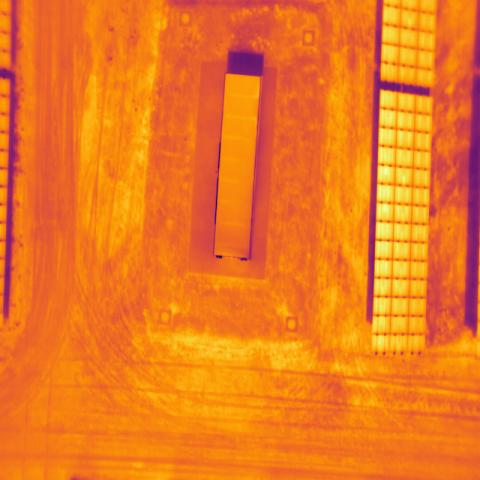fault: (377, 164, 396, 185)
